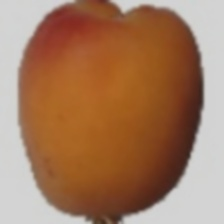apricot: (20, 20, 197, 166)
